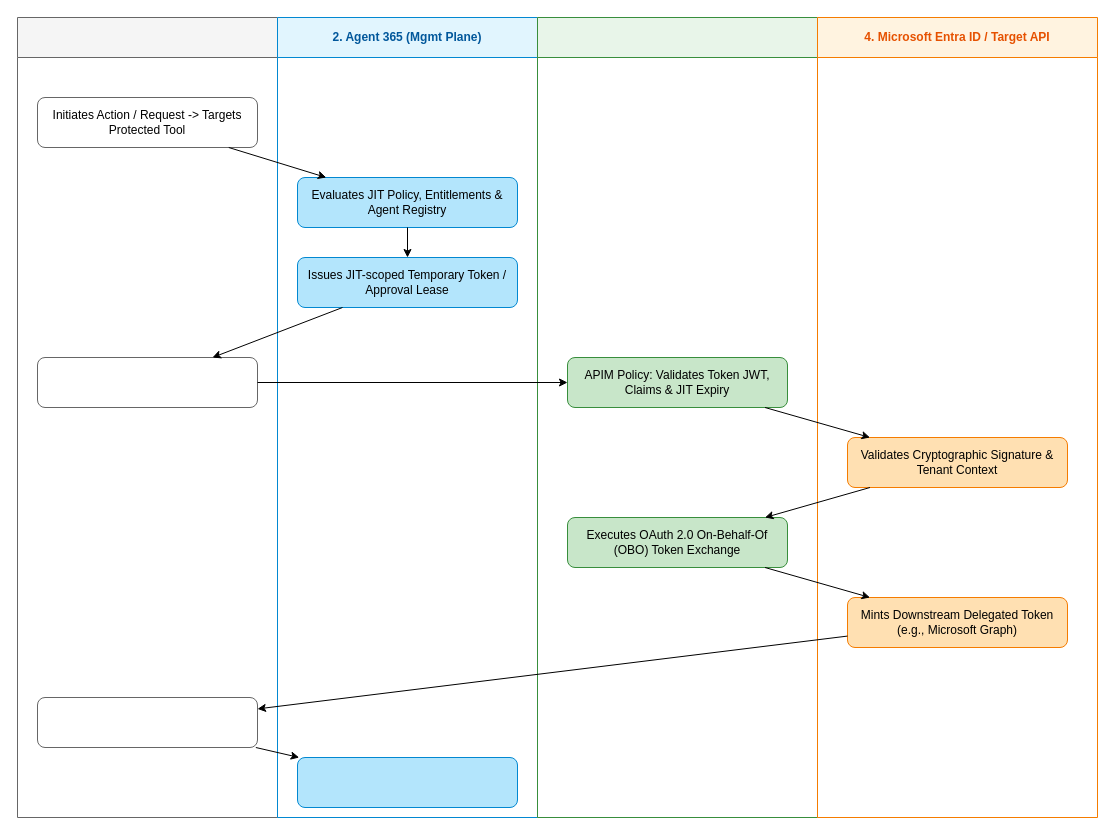
This 1115x835 diagram has some shape labels left out. Each missing label, with the box of its shape:
1. Client / AI Agent: (16, 16, 278, 818)
3. Azure APIM (Token Broker): (536, 16, 818, 818)
JIT Access Expiry / Revocation & Session Audit Trail Logged: (296, 756, 518, 808)
Returns Response to Agent / Client via APIM Gateway: (36, 696, 258, 748)
Sends API Request with Initial User/Agent Bearer JWT: (36, 356, 258, 408)
